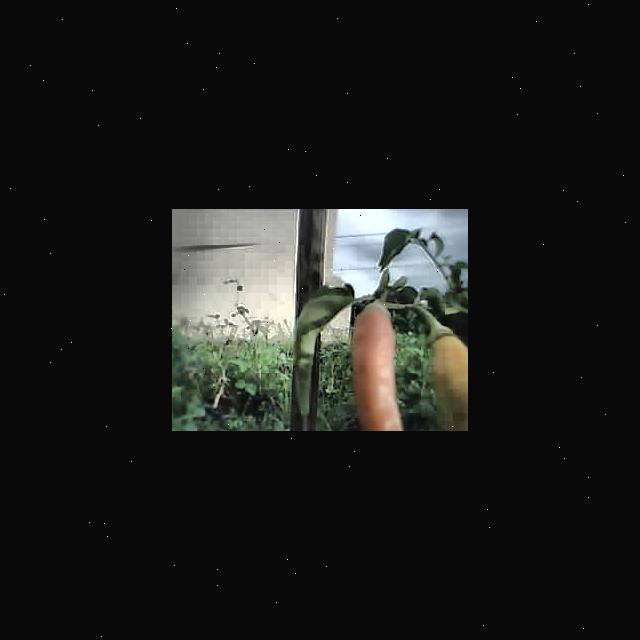Cabai: (354, 298, 409, 431), (432, 331, 468, 394)
